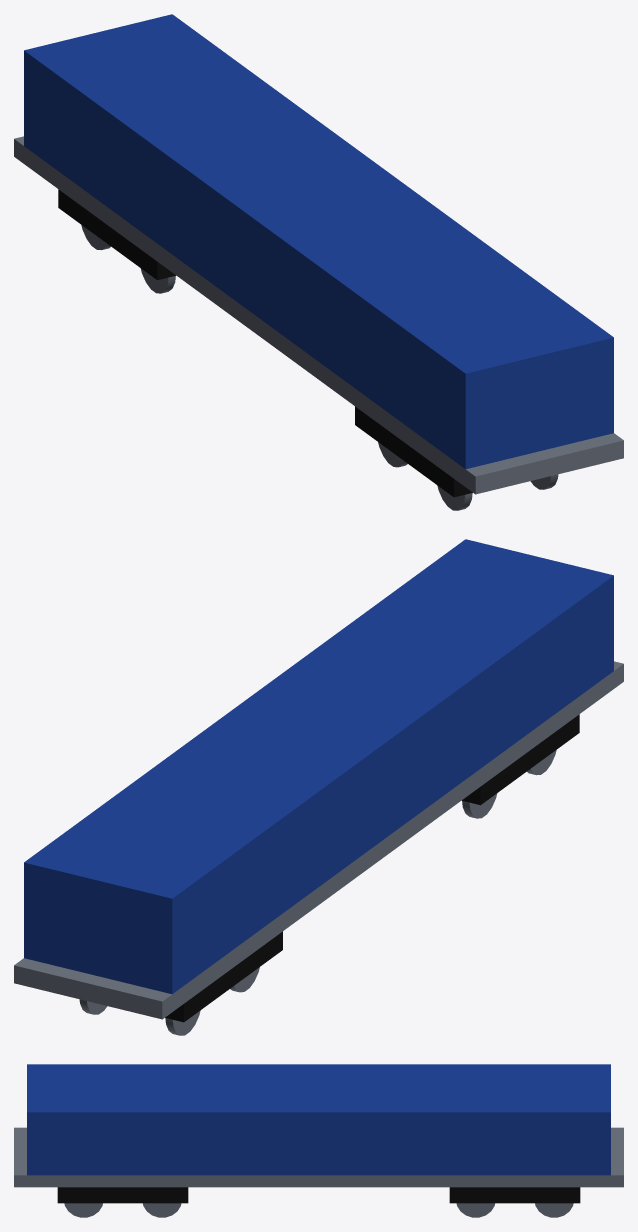
File: rail.train.wagon.glb
3 views of the same model, one above another, from view 1: azimuth 30°, elevation 25°; view 2: azimuth 150°, elevation 25°; view 3: azimuth 270°, elevation 25° (orthographic). The views are drawn at different scales.
Parts seen in each view (by area): view 1: main__plastic_blue, main__steel_painted, main__plastic_black; view 2: main__plastic_blue, main__steel_painted, main__plastic_black; view 3: main__plastic_blue, main__steel_painted, main__plastic_black.
Part boxes in pixels (left/top/right/bottom): main__plastic_blue: left=24, top=14, right=613, bottom=469; main__steel_painted: left=14, top=136, right=623, bottom=510; main__plastic_black: left=58, top=189, right=472, bottom=497; main__plastic_blue: left=24, top=539, right=613, bottom=994; main__steel_painted: left=14, top=661, right=623, bottom=1035; main__plastic_black: left=165, top=714, right=579, bottom=1022; main__plastic_blue: left=27, top=1064, right=610, bottom=1175; main__steel_painted: left=14, top=1127, right=623, bottom=1217; main__plastic_black: left=57, top=1187, right=580, bottom=1203.
Bounding box in the file's own units: 2.6 × 2.89 × 14.
